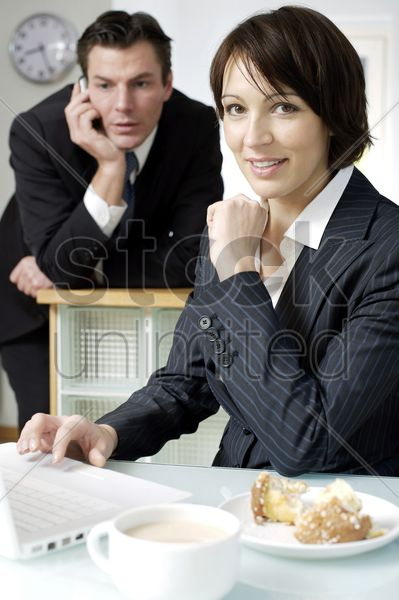talk: (65, 69, 163, 167)
